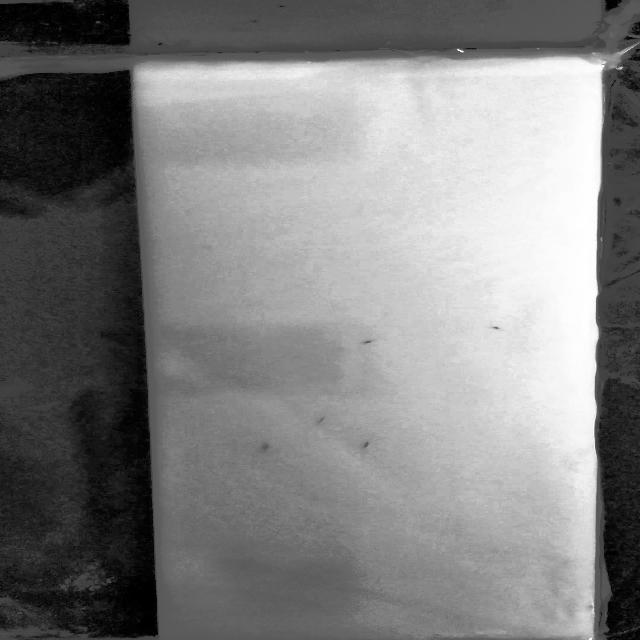shrimp: (354, 336, 381, 348), (355, 438, 378, 452), (314, 412, 336, 426), (486, 324, 509, 333), (254, 441, 274, 450)
